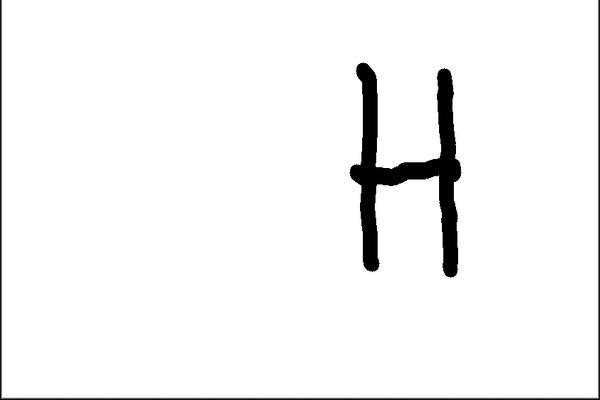H: (343, 54, 472, 281)
